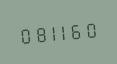eight: (30, 22, 42, 45)
one: (44, 21, 56, 44), (57, 20, 69, 43)
six: (70, 19, 82, 41)
zero: (17, 23, 29, 46), (83, 17, 95, 40)
